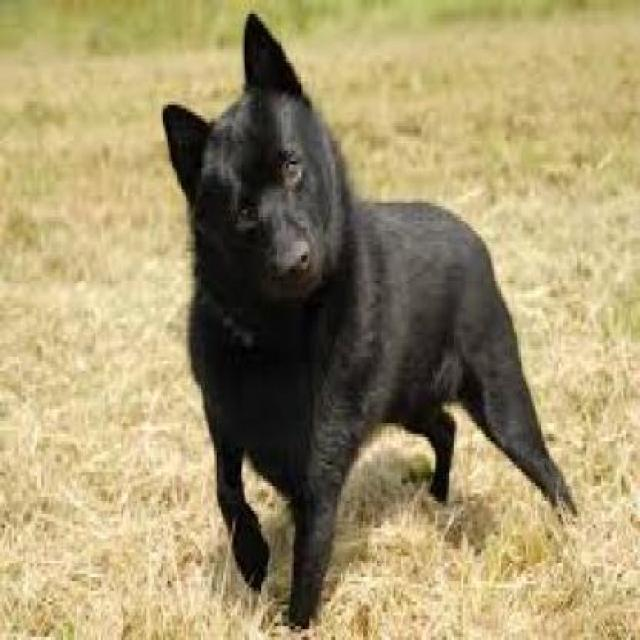animals: (161, 8, 577, 610)
